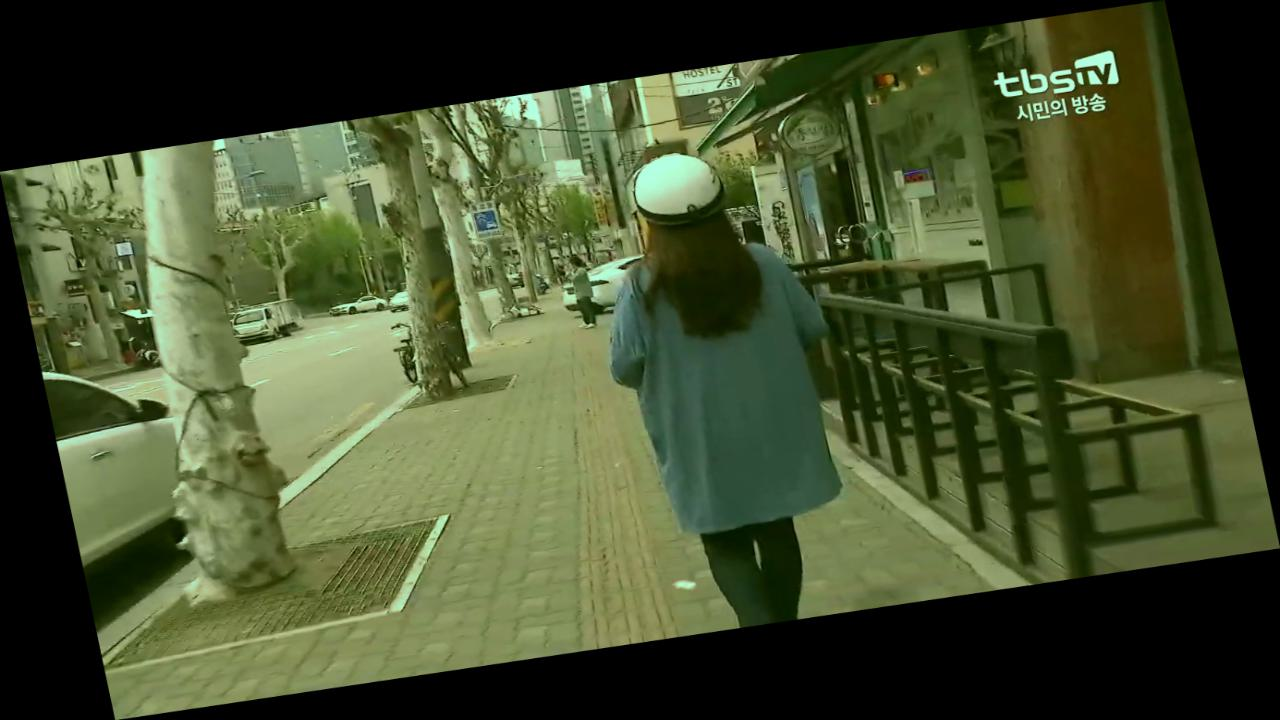helmet: (565, 132, 893, 639)
